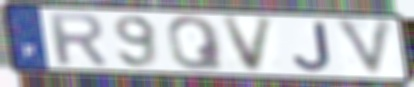9: (112, 14, 162, 68)
J: (291, 20, 335, 73)
Q: (164, 14, 228, 72)
R: (44, 10, 111, 67)
V: (332, 17, 397, 81), (219, 16, 278, 75)
